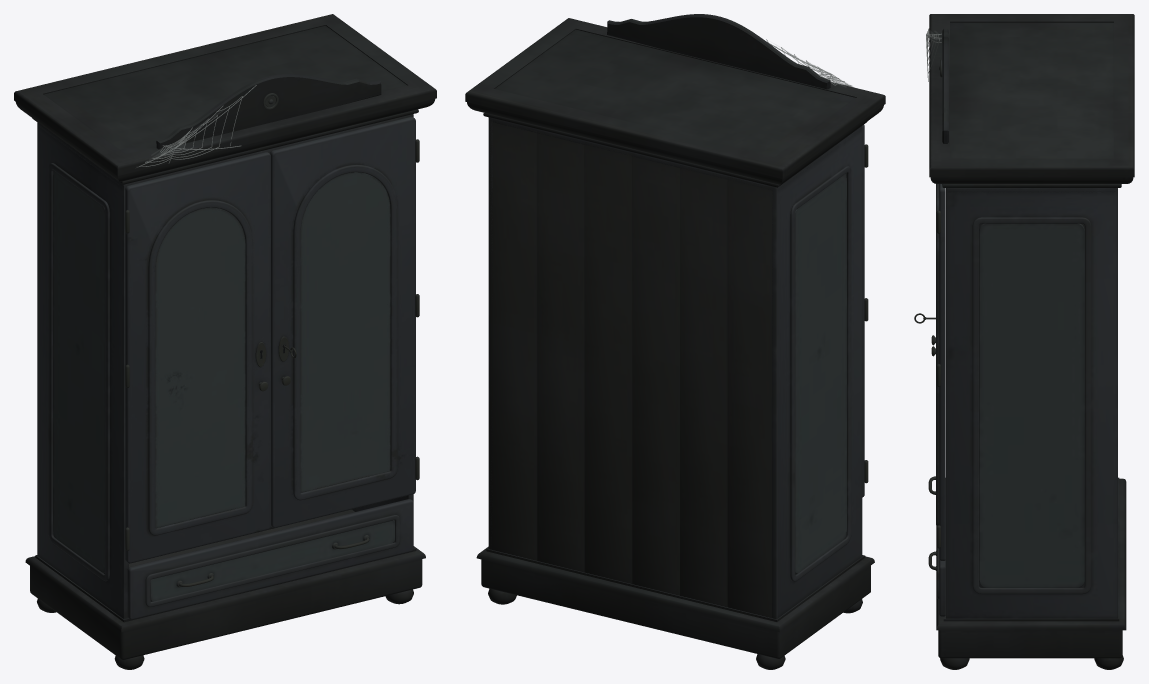
The model's file is old-wardrobe.glb.
3 renders of one model, left to right at view 1: azimuth 30°, elevation 25°; view 2: azimuth 150°, elevation 25°; view 3: azimuth 270°, elevation 25°, orthographic.
Parts seen in each view (by area): view 1: old-wardrobe_body, old-wardrobe_door_left, old-wardrobe_door_right, old-wardrobe_web; view 2: old-wardrobe_body, old-wardrobe_door_left; view 3: old-wardrobe_body, old-wardrobe_door_right.
Part boxes in pixels (box(x1,y1,x2,y2)): old-wardrobe_body: box(14, 14, 436, 669); old-wardrobe_door_left: box(125, 152, 270, 563); old-wardrobe_door_right: box(270, 116, 415, 527); old-wardrobe_web: box(137, 85, 256, 167); old-wardrobe_body: box(465, 14, 885, 669); old-wardrobe_door_left: box(862, 125, 864, 497); old-wardrobe_body: box(928, 14, 1134, 669); old-wardrobe_door_right: box(914, 184, 945, 560).
Bounding box in the file's own units: 1.23 × 2.06 × 0.7426.
Materials: 5 (3 with a texture image).
